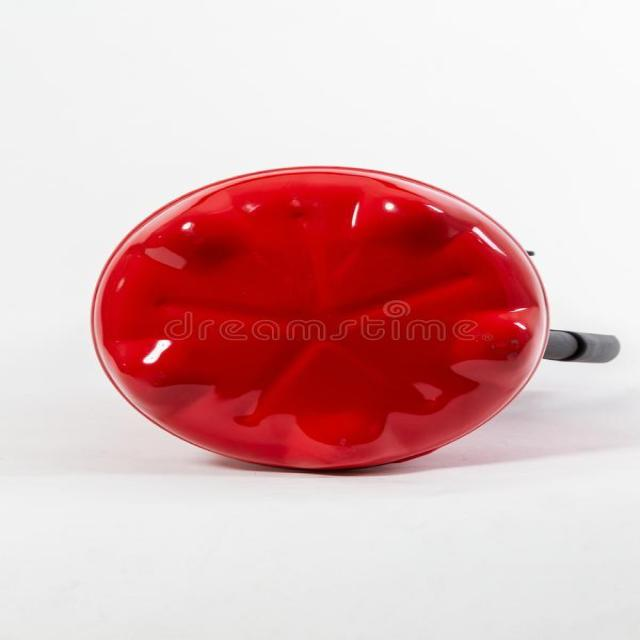fire_extinguisher: (77, 159, 628, 484)
